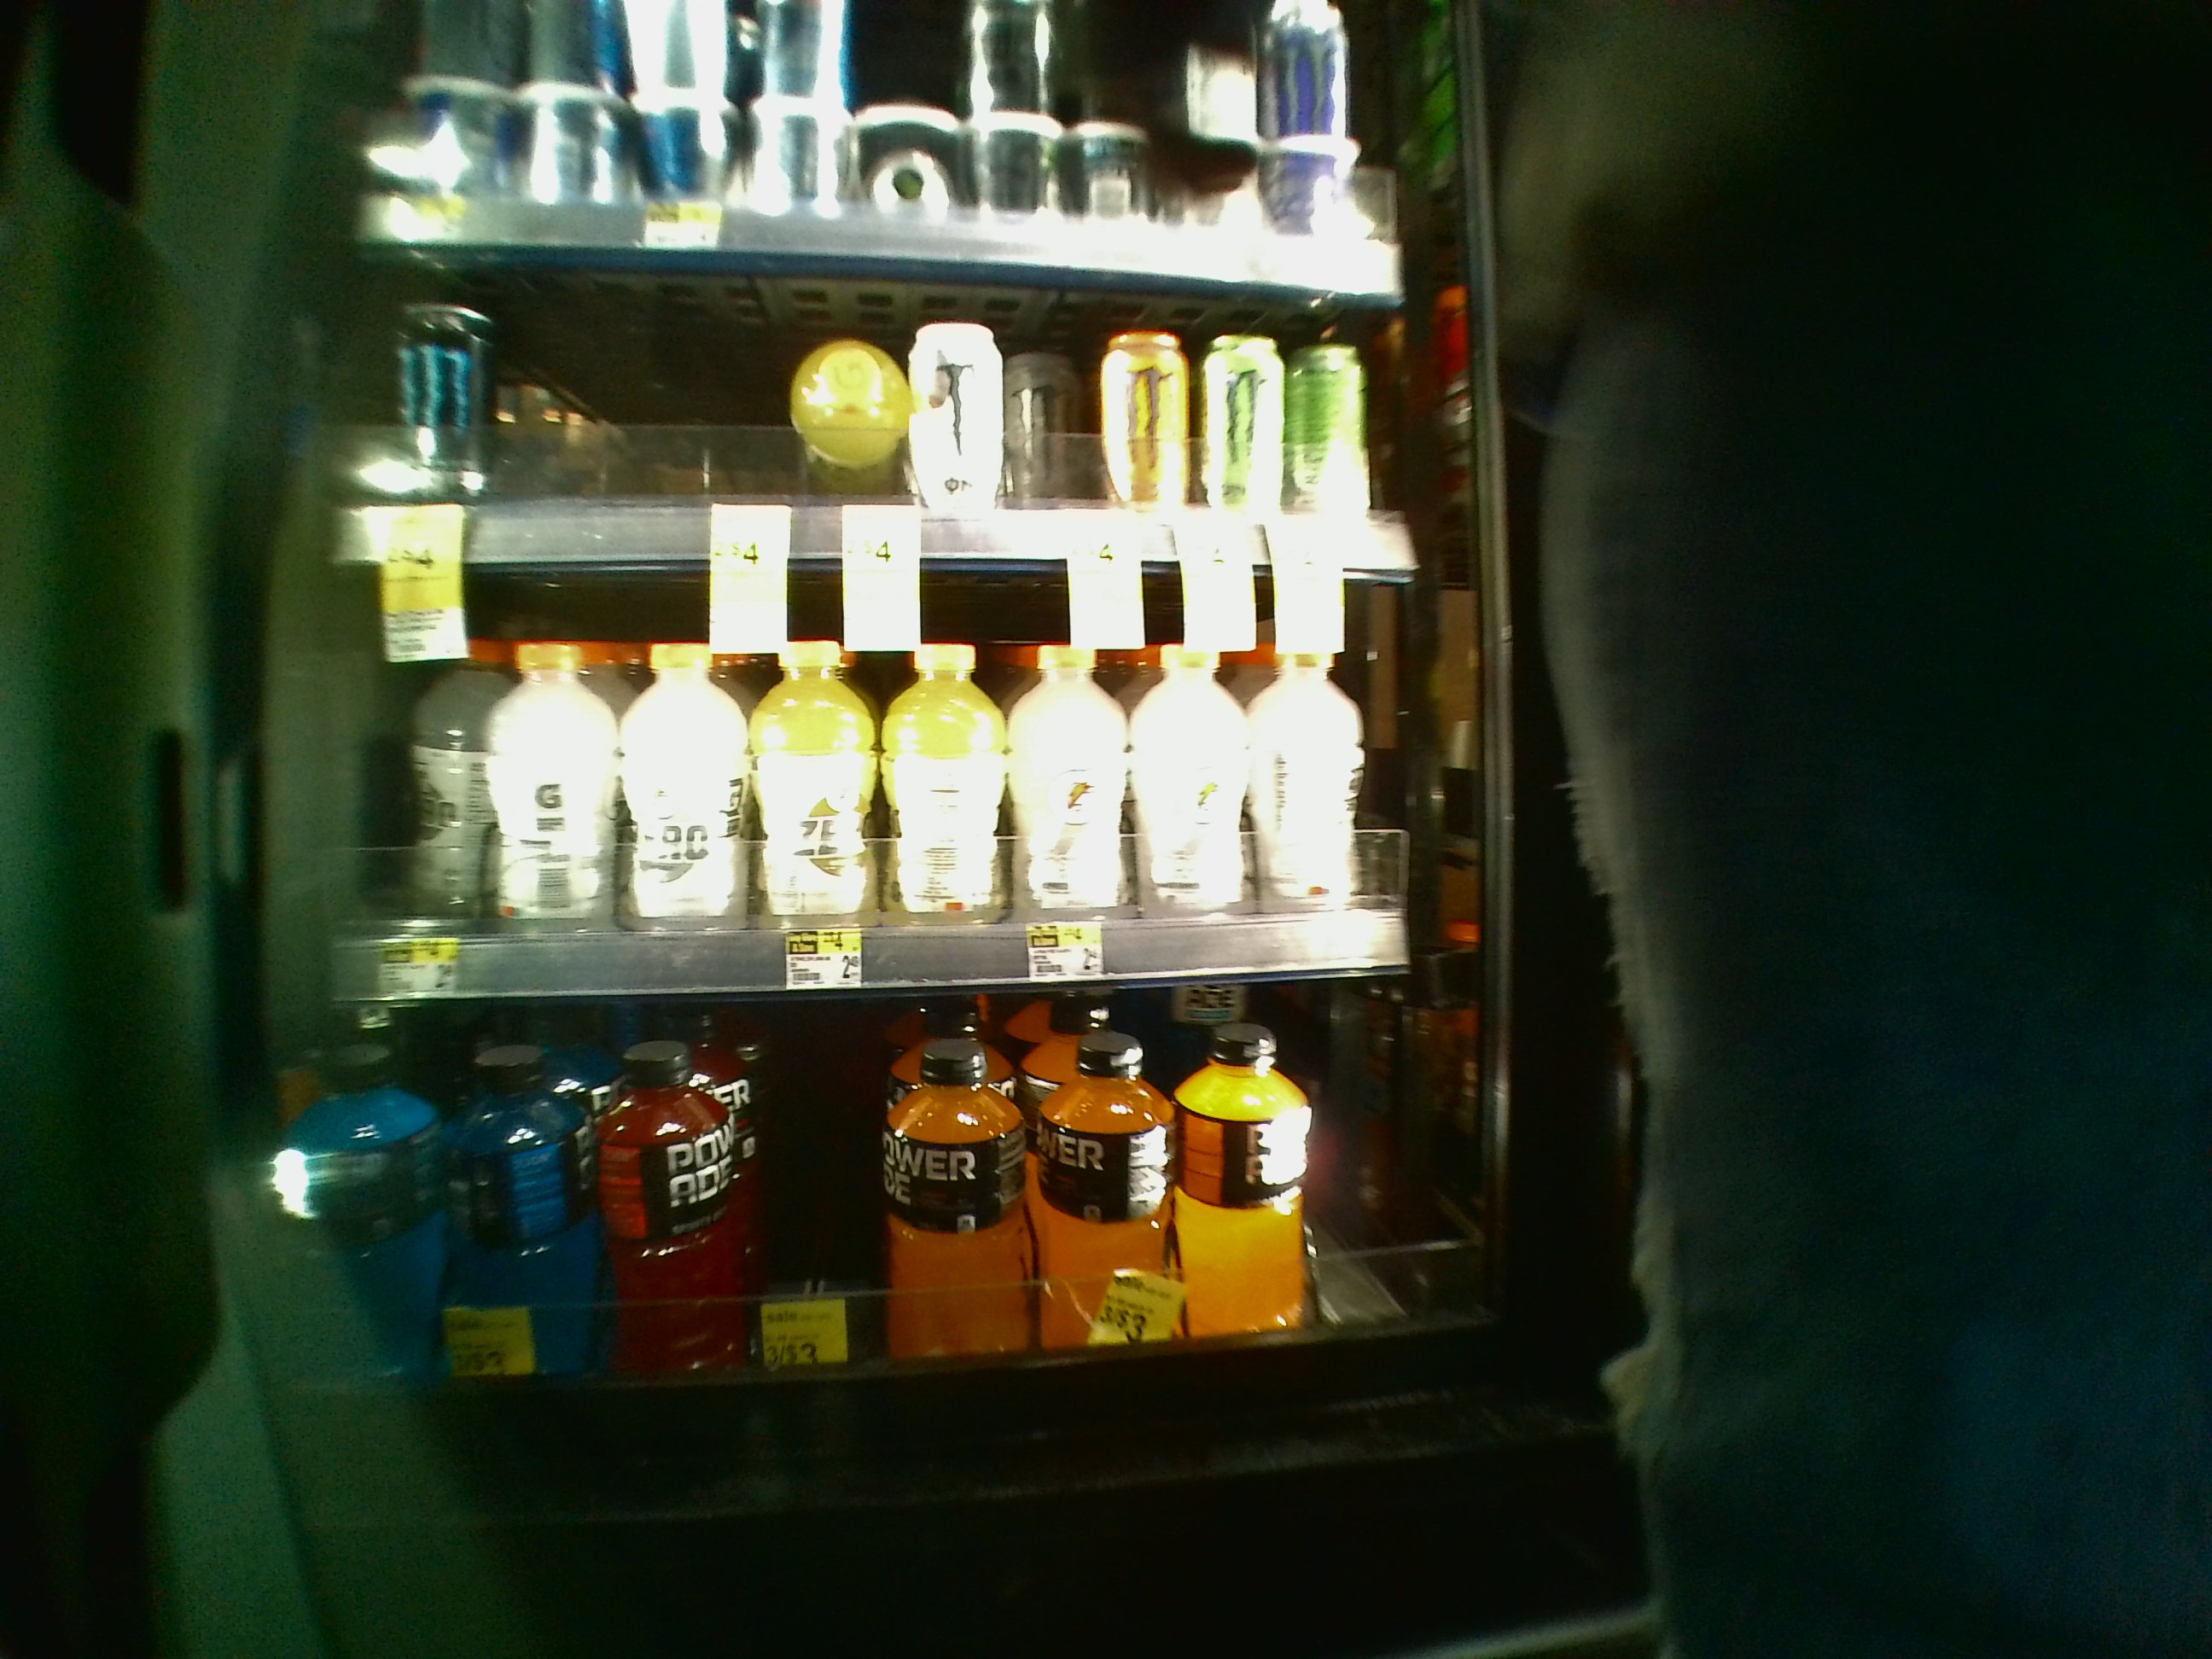shelf: (314, 558, 1489, 990)
